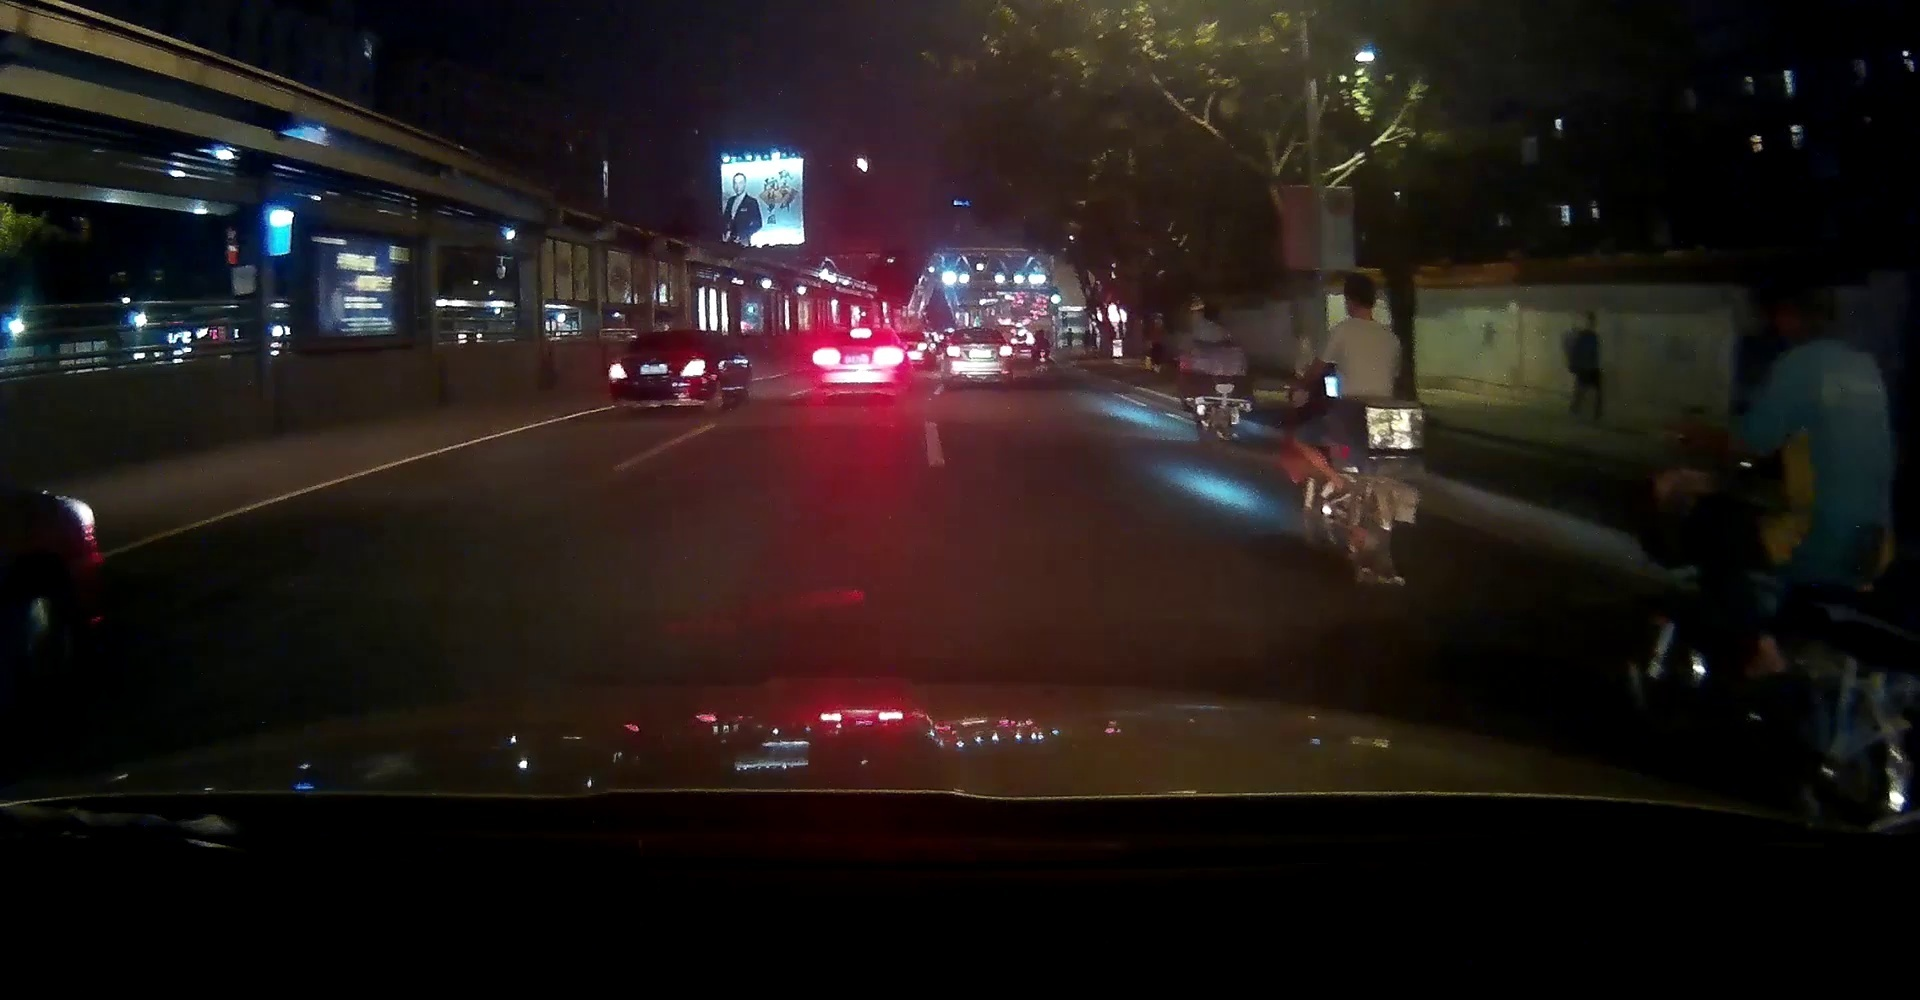L_light: (814, 352, 841, 363), (610, 363, 629, 378), (946, 348, 963, 358)
R_light: (681, 359, 706, 376), (872, 349, 902, 363), (998, 346, 1012, 357)
T_light: (850, 330, 871, 338), (662, 332, 678, 338), (970, 330, 982, 334)
night-brake: (811, 327, 904, 404)
night-no: (607, 327, 709, 414), (942, 327, 1013, 390)
